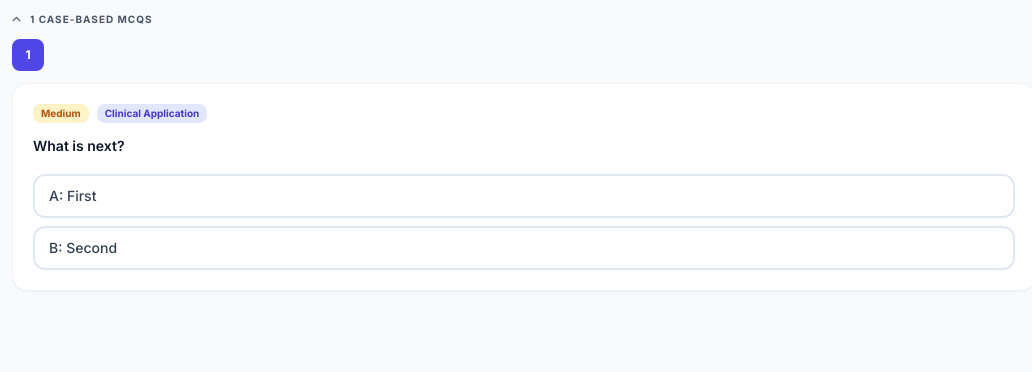
Test case: CaseMCQs › reveals correctness only after server grading
Click the button "B: Second" at (83, 247), box [33,226,1015,270]
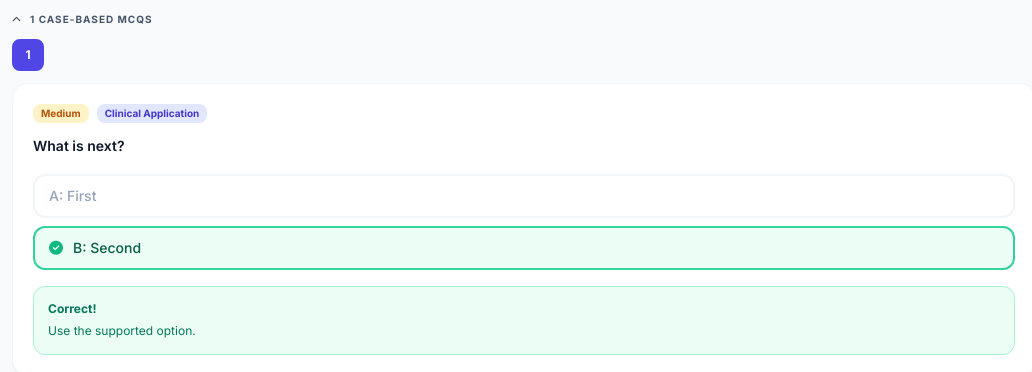
Check: the text "Correct!" is shown, box [48,301,96,316]
